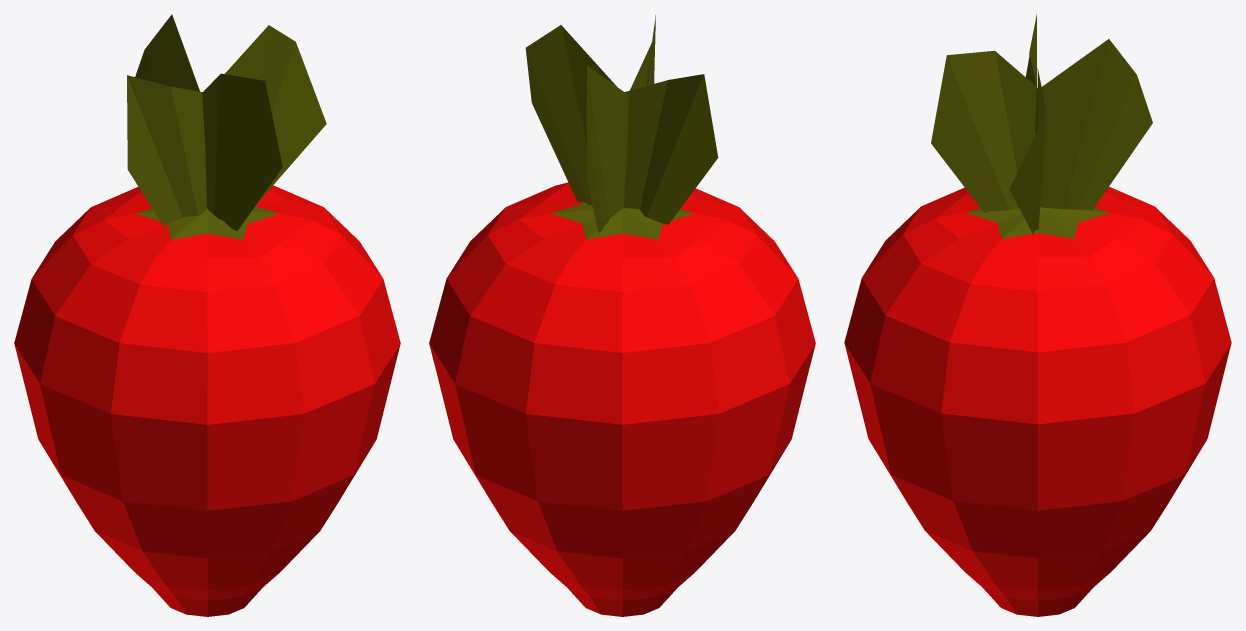
Rendered from strawberry.fbx.
3 renders of one model, left to right at view 1: azimuth 30°, elevation 25°; view 2: azimuth 150°, elevation 25°; view 3: azimuth 270°, elevation 25°, orthographic.
Parts seen in each view (by area): view 1: strawberry; view 2: strawberry; view 3: strawberry.
Part boxes in pixels (bbox=[...]): strawberry: bbox=[14, 14, 400, 616]; strawberry: bbox=[429, 15, 815, 616]; strawberry: bbox=[844, 14, 1231, 616].
Bounding box in the file's own units: 58.08 × 95.29 × 58.08.
